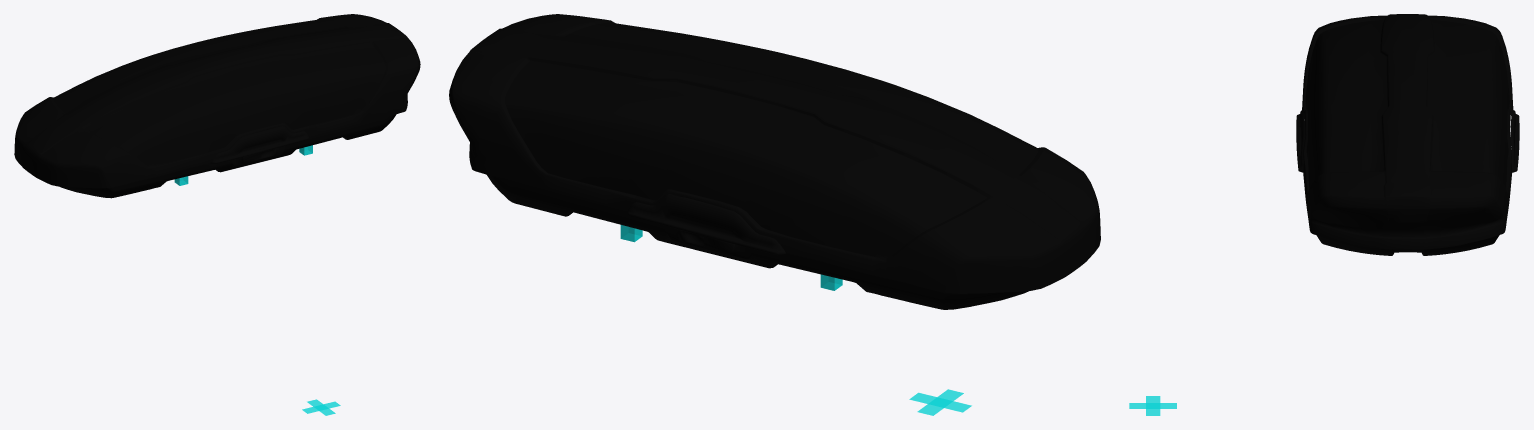
The model's file is PlusTest.glb.
3 renders of one model, left to right at view 1: azimuth 30°, elevation 25°; view 2: azimuth 150°, elevation 25°; view 3: azimuth 270°, elevation 25°, orthographic. The views are drawn at different scales.
Parts seen in each view (by area): view 1: XT_XL_low; view 2: XT_XL_low, Plane003; view 3: XT_XL_low, Plane003.
Part boxes in pixels (x1,y1,x2,y2): XT_XL_low: (14,14,420,198); XT_XL_low: (449,14,1100,309); Plane003: (909,389,971,415); XT_XL_low: (1296,14,1519,255); Plane003: (1129,396,1176,415).
Size of the model in its own units: 2.14 by 1.5 by 1.59.
3 materials, 2 textured.
